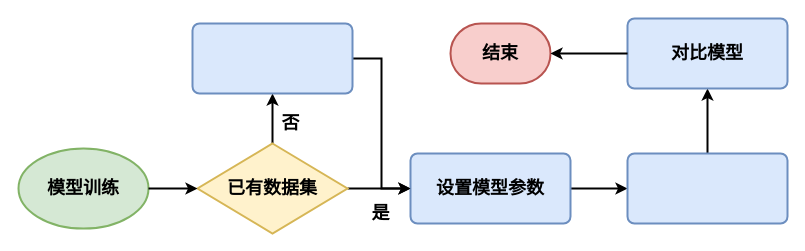
The diagram is 805 pixels wide and 251 high, and some of its shapes have lost their labels. Here are the shapes that lost their labels. From the top down, the centre of each, then its label:
At point (272, 58): "上传数据集".
At point (707, 188): "查看训练结果".
